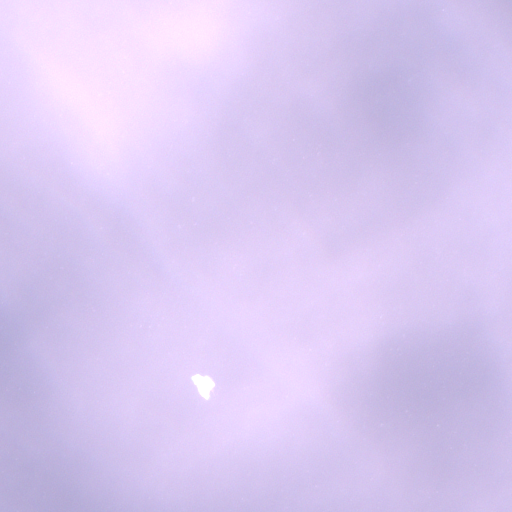Iceberg: (191, 374, 215, 400)
